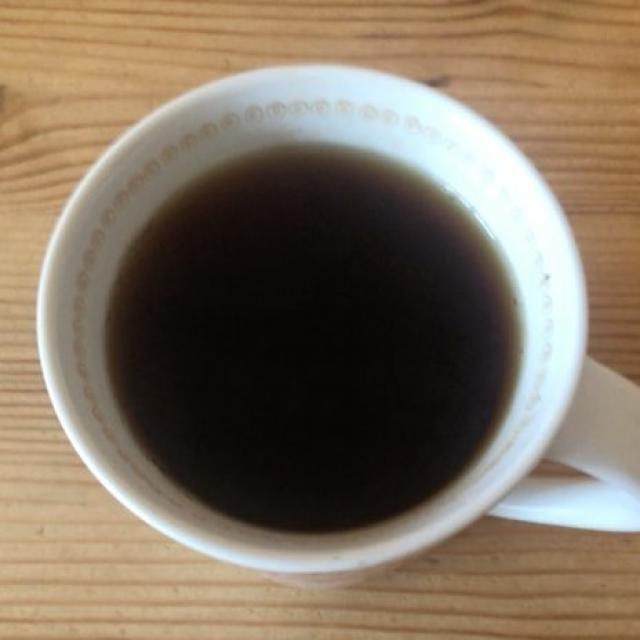tea: (108, 148, 513, 523)
